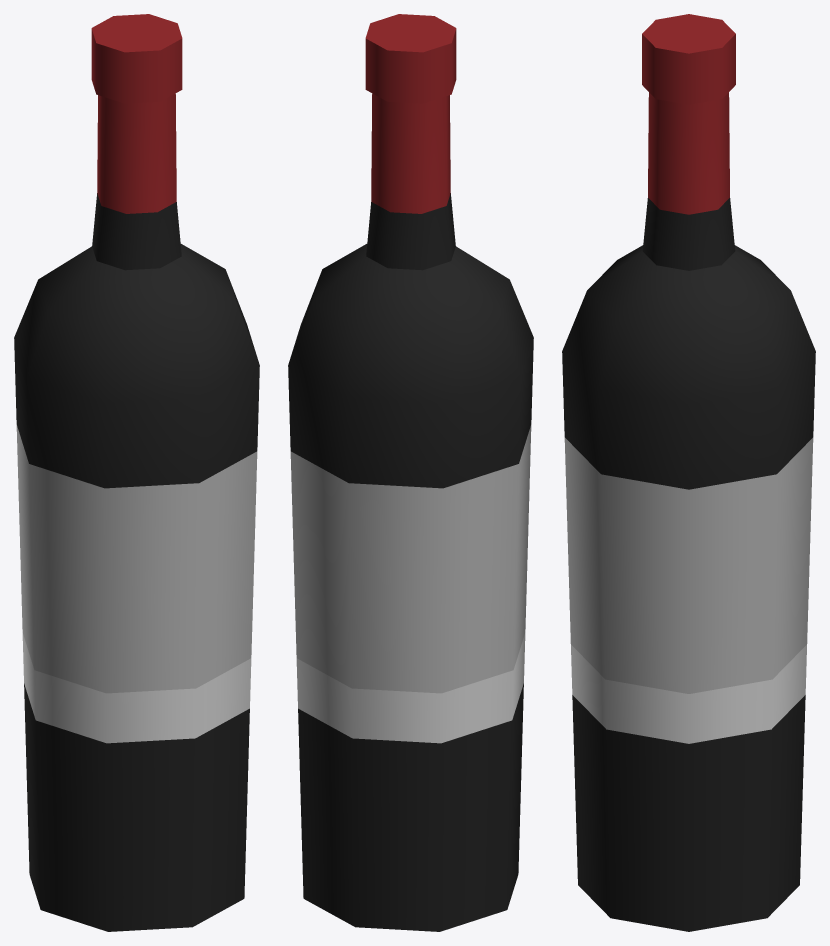
File: prop_055.fbx
The picture shows the model from 3 angles, left to right: view 1: azimuth 30°, elevation 25°; view 2: azimuth 150°, elevation 25°; view 3: azimuth 270°, elevation 25°; orthographic projection.
Parts seen in each view (by area): view 1: prop_055; view 2: prop_055; view 3: prop_055.
Boxes of the visible parts, bbox=[...] form: prop_055: bbox=[14, 14, 259, 931]; prop_055: bbox=[288, 14, 533, 931]; prop_055: bbox=[562, 14, 815, 931].
Bounding box in the file's own units: 12.12 × 12.12 × 44.85.
